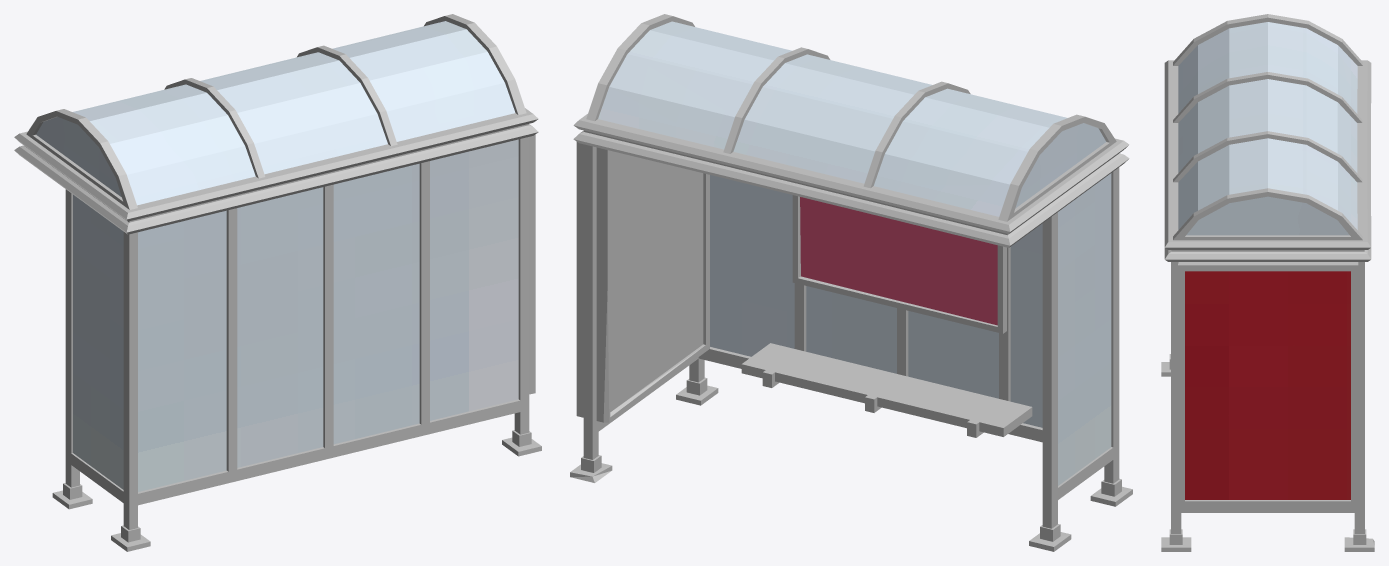
File: BusStop.fbx
The picture shows the model from 3 angles, left to right: view 1: azimuth 30°, elevation 25°; view 2: azimuth 150°, elevation 25°; view 3: azimuth 270°, elevation 25°; orthographic projection. The views are drawn at different scales.
Visible parts, largest first — view 1: SM_City_BusStop_01.mo; view 2: SM_City_BusStop_01.mo; view 3: SM_City_BusStop_01.mo.
Part boxes in pixels (x1,y1,x2,y2): SM_City_BusStop_01.mo: (14, 14, 541, 551); SM_City_BusStop_01.mo: (570, 14, 1132, 551); SM_City_BusStop_01.mo: (1161, 14, 1374, 551).
Bounding box in the file's own units: 338 × 300 × 163.
